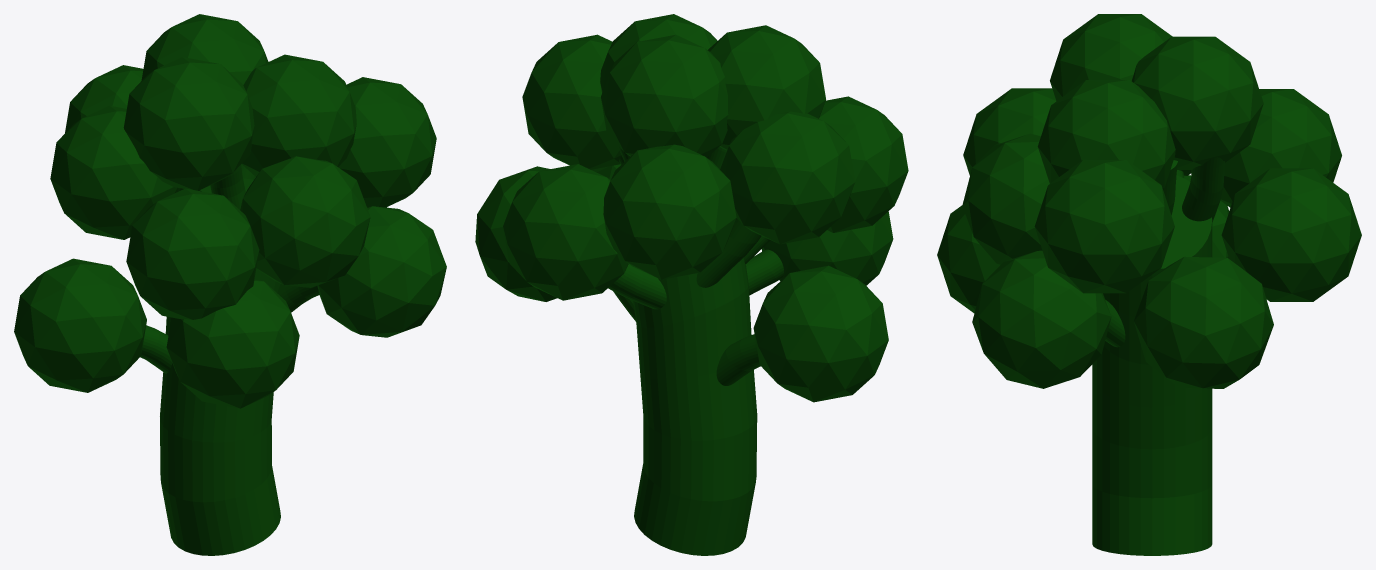
Rendered from brocoli dark.fbx.
3 views of the same model, side by side, from view 1: azimuth 30°, elevation 25°; view 2: azimuth 150°, elevation 25°; view 3: azimuth 270°, elevation 25° (orthographic). The views are drawn at different scales.
Parts seen in each view (by area): view 1: brocolli; view 2: brocolli; view 3: brocolli.
Boxes of the visible parts, x1,y1,x2,y2 form: brocolli: (14,14,446,555); brocolli: (475,14,908,555); brocolli: (937,14,1361,555).
Size of the model in its own units: 122 by 157 by 117.
